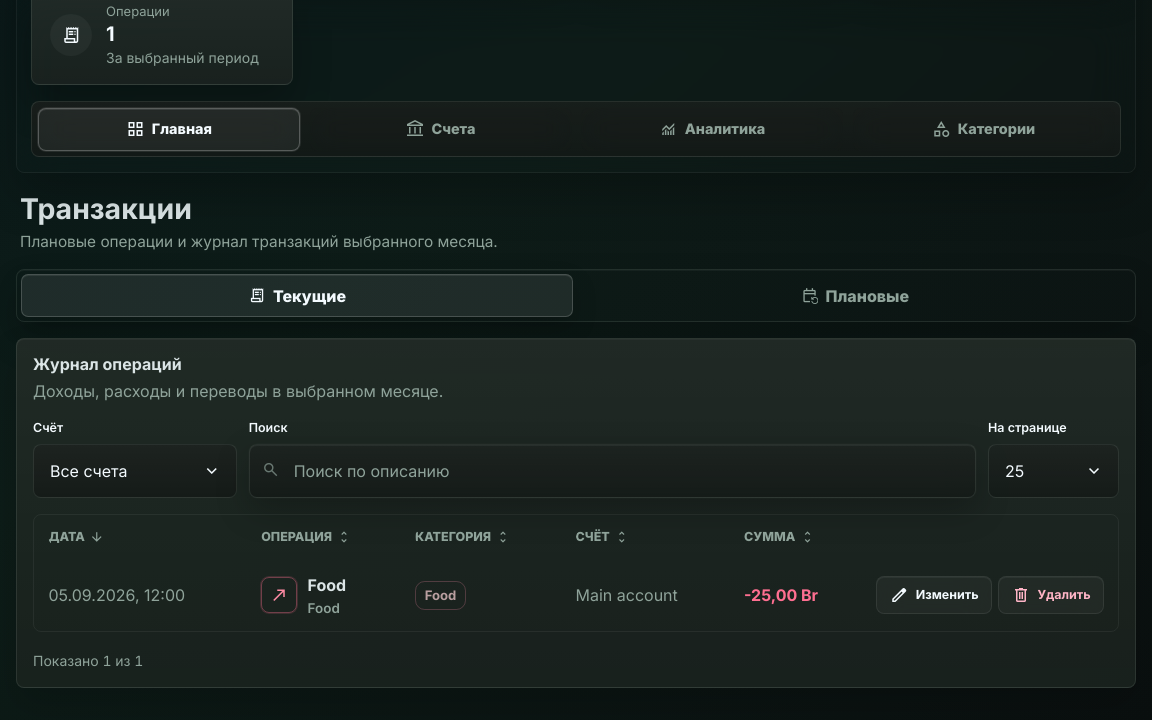
HomePageComponent › opens the edit dialog from the rendered transaction action
The width and height of the screenshot is (1152, 720).
(page scrolled)
Click the button with test id "edit-transaction" at (934, 595), box [876, 576, 992, 614]
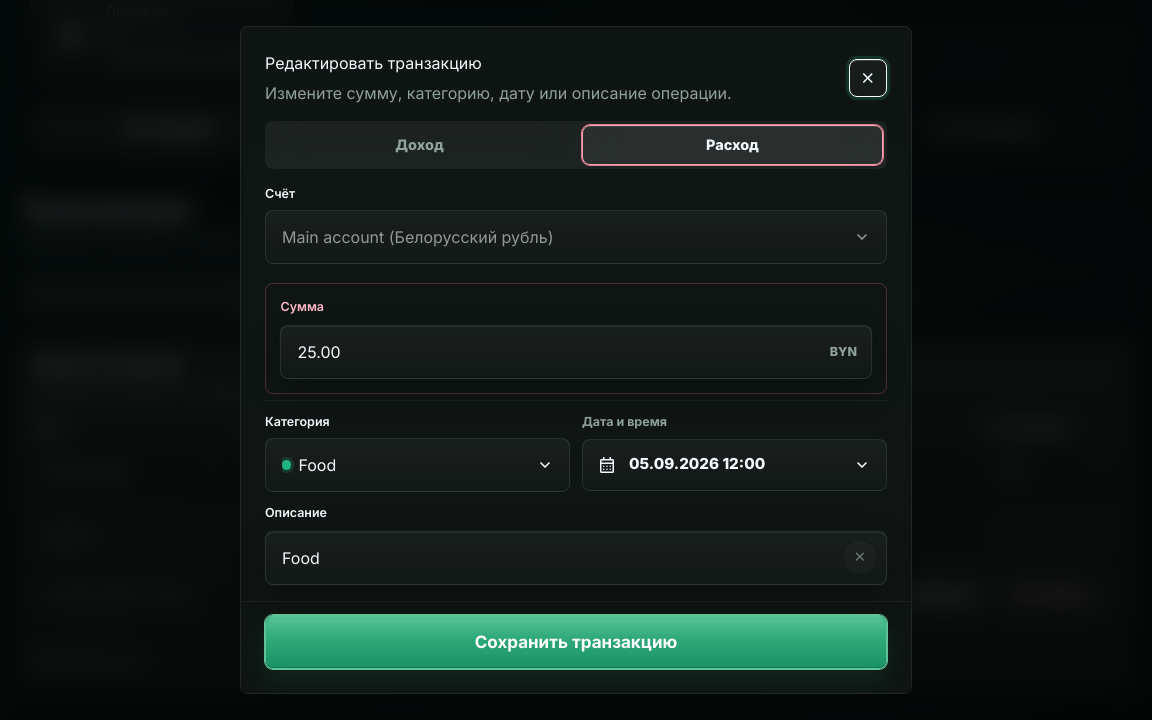
expect the dialog with class "dialog" is shown: met, box [240, 26, 912, 694]
expect the text "Редактировать транзакцию" is shown: met, box [265, 53, 482, 73]
